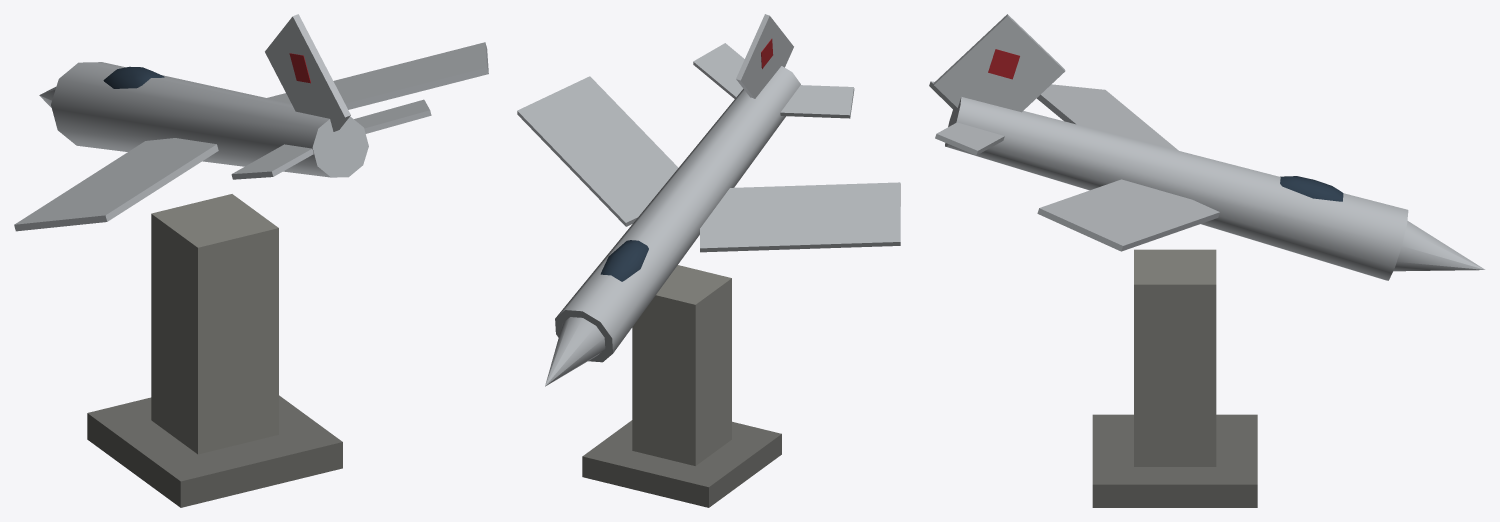
Rendered from mark-plane.glb.
The picture shows the model from 3 angles, left to right: view 1: azimuth 30°, elevation 25°; view 2: azimuth 150°, elevation 25°; view 3: azimuth 270°, elevation 25°; orthographic projection. The views are drawn at different scales.
Visible parts, largest first — view 1: 02_#b4b8bc, 00_#85857f, 01_#6e6e6a, 03_#b4b8bc_r320, 04_#2a3a4a_r320; view 2: 02_#b4b8bc, 00_#85857f, 01_#6e6e6a, 03_#b4b8bc_r320, 04_#2a3a4a_r320; view 3: 02_#b4b8bc, 00_#85857f, 01_#6e6e6a, 03_#b4b8bc_r320, 04_#2a3a4a_r320, 05_#a3262c_noshadow_r110.
Boxes of the visible parts, x1,y1,x2,y2 form: 02_#b4b8bc: (14,42,488,231); 00_#85857f: (151,194,278,454); 01_#6e6e6a: (87,395,342,507); 03_#b4b8bc_r320: (39,14,431,179); 04_#2a3a4a_r320: (103,66,164,88); 02_#b4b8bc: (517,66,900,362); 00_#85857f: (632,265,731,465); 01_#6e6e6a: (582,420,781,507); 03_#b4b8bc_r320: (545,14,854,386); 04_#2a3a4a_r320: (600,240,648,281); 02_#b4b8bc: (945,84,1408,280); 00_#85857f: (1134,249,1216,466); 01_#6e6e6a: (1092,414,1257,507); 03_#b4b8bc_r320: (929,14,1485,271); 04_#2a3a4a_r320: (1280,176,1343,201); 05_#a3262c_noshadow_r110: (988,49,1019,79).
Bounding box in the file's own units: 9.52 × 9.66 × 10.79.
